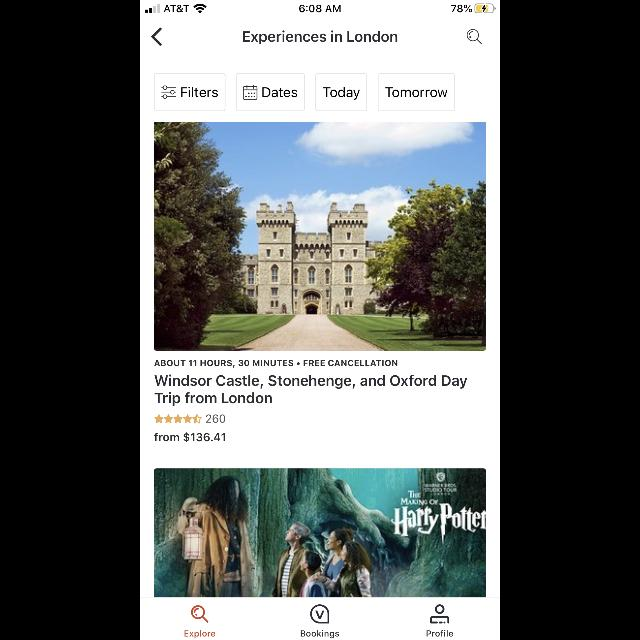icon: (154, 414, 202, 424), (430, 604, 450, 624), (192, 606, 208, 622), (466, 30, 482, 44), (152, 28, 162, 46)
image: (154, 123, 486, 351), (154, 469, 486, 597), (310, 604, 330, 624)
text: (155, 375, 467, 389), (243, 31, 397, 45), (154, 360, 398, 368), (154, 392, 272, 406), (154, 432, 226, 442), (301, 630, 339, 638), (185, 630, 215, 638), (427, 630, 453, 636), (207, 415, 226, 423)
textbutton: (378, 73, 454, 111), (154, 73, 226, 111), (237, 73, 306, 111), (315, 73, 367, 111)
uppertaskbar: (140, 0, 500, 14)
